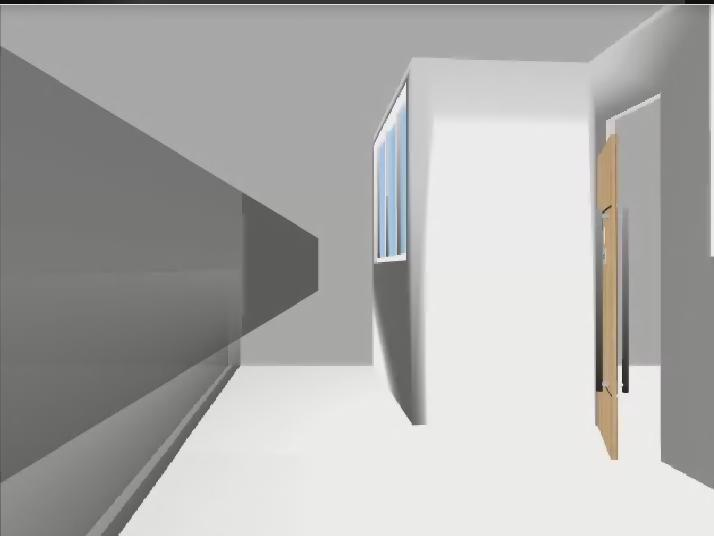door: (595, 134, 630, 459)
